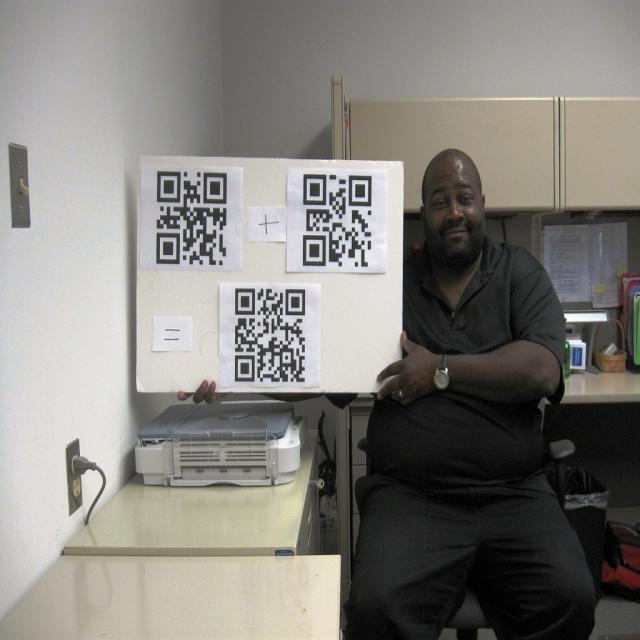qrcode: (157, 172, 227, 265), (236, 289, 305, 382), (304, 175, 373, 267)
